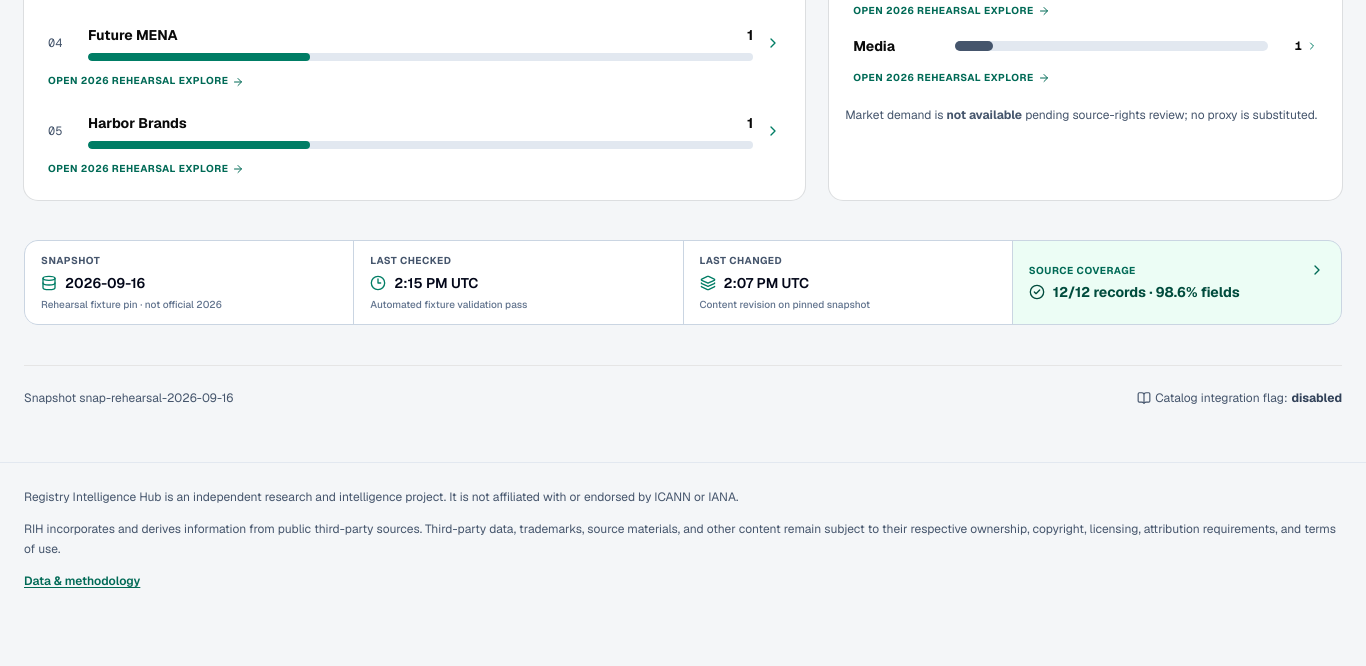
it: Command Center interactions › opens provenance for snapshot lineage from dataset health
(page scrolled)
Click the button with aria-label "View intelligence for Snapshot snap-rehearsal-2026-09-16". click: (71, 261)
box: [25,241,353,324]
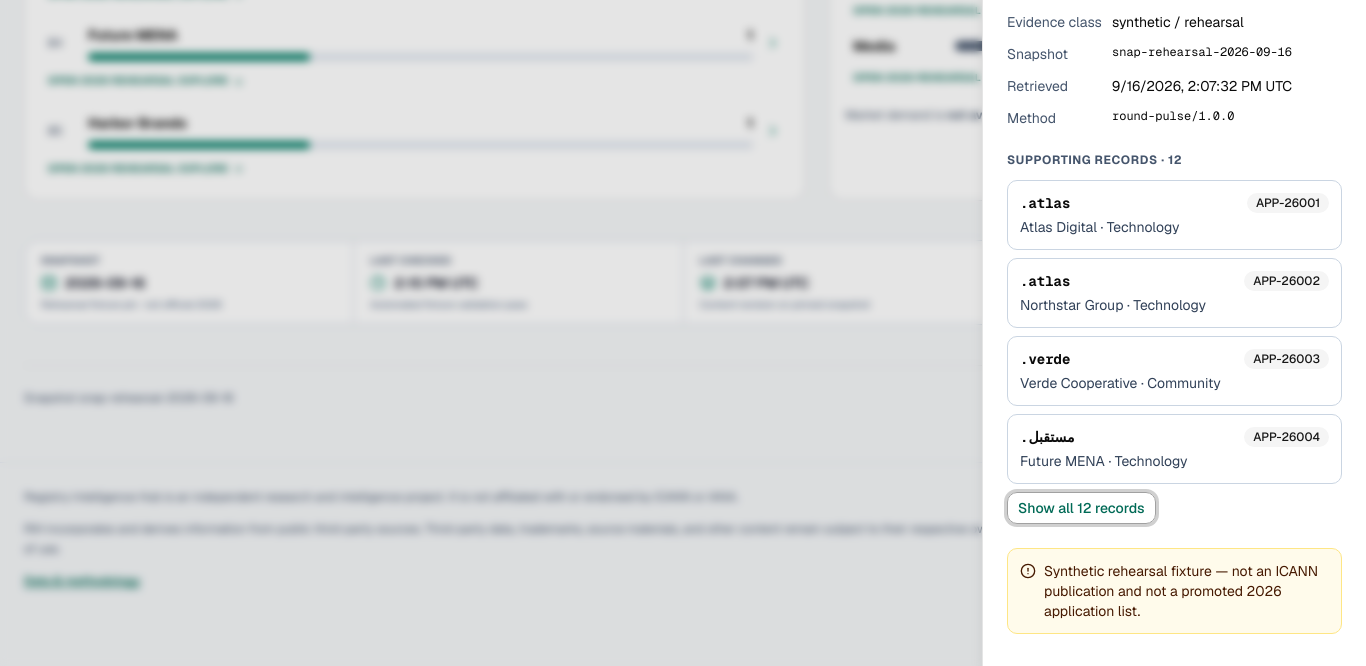
Expected: the text "snap-rehearsal-2026-09-16" is shown, [1112,44,1292,60]
